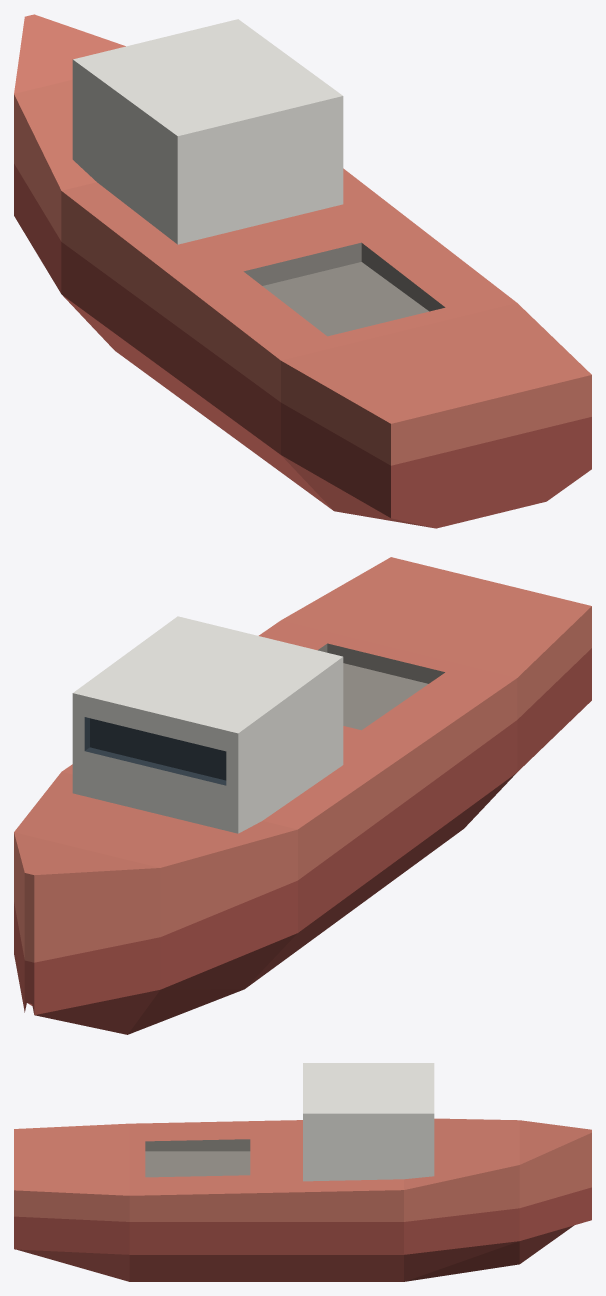
The model's file is fishing_boat_lod1.glb.
3 renders of one model, top to bottom at view 1: azimuth 30°, elevation 25°; view 2: azimuth 150°, elevation 25°; view 3: azimuth 270°, elevation 25°, orthographic. The views are drawn at different scales.
Parts seen in each view (by area): view 1: fishing_boat_lod1; view 2: fishing_boat_lod1; view 3: fishing_boat_lod1.
Boxes of the visible parts, box(x1,y1,x2,y2) form: fishing_boat_lod1: box(14, 14, 591, 528); fishing_boat_lod1: box(14, 557, 591, 1034); fishing_boat_lod1: box(14, 1063, 591, 1281).
Size of the model in its own units: 6.5 by 7.3 by 22.
